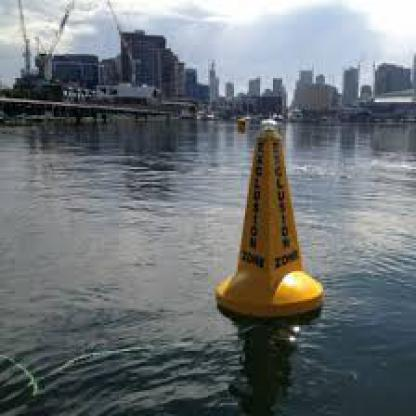buoy: (224, 124, 330, 325)
